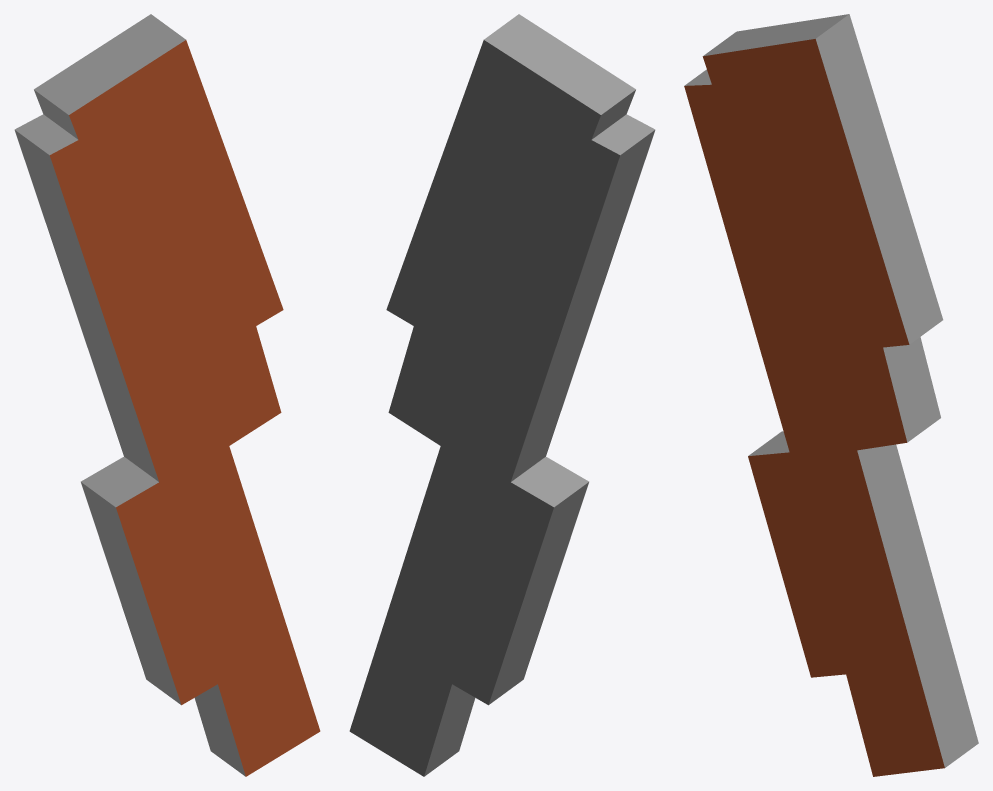
Rendered from construction_5136_assumed_A_Casa_h6m.obj.
3 views of the same model, side by side, from view 1: azimuth 30°, elevation 25°; view 2: azimuth 150°, elevation 25°; view 3: azimuth 330°, elevation 25° (orthographic). The views are drawn at different scales.
Parts seen in each view (by area): view 1: construction_5136_assumed_A_Casa; view 2: construction_5136_assumed_A_Casa; view 3: construction_5136_assumed_A_Casa.
Part boxes in pixels (box(x1,y1,x2,y2)): construction_5136_assumed_A_Casa: box(14, 14, 320, 776); construction_5136_assumed_A_Casa: box(349, 14, 655, 776); construction_5136_assumed_A_Casa: box(684, 14, 978, 776).
Size of the model in its own units: 26.67 by 70.72 by 6.
